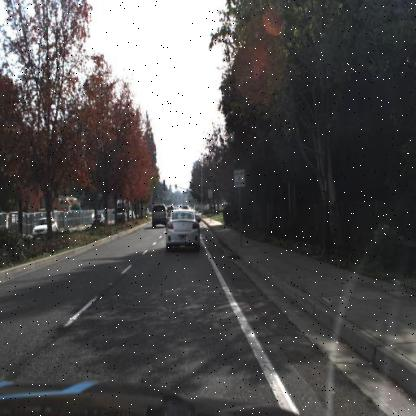car: (161, 203, 205, 258), (31, 216, 58, 239), (150, 202, 170, 229), (91, 209, 106, 228), (180, 202, 190, 215), (167, 203, 174, 218)
truck: (113, 198, 132, 222)
